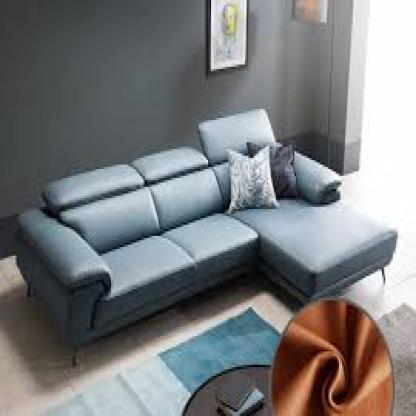sofa: (8, 107, 405, 298)
